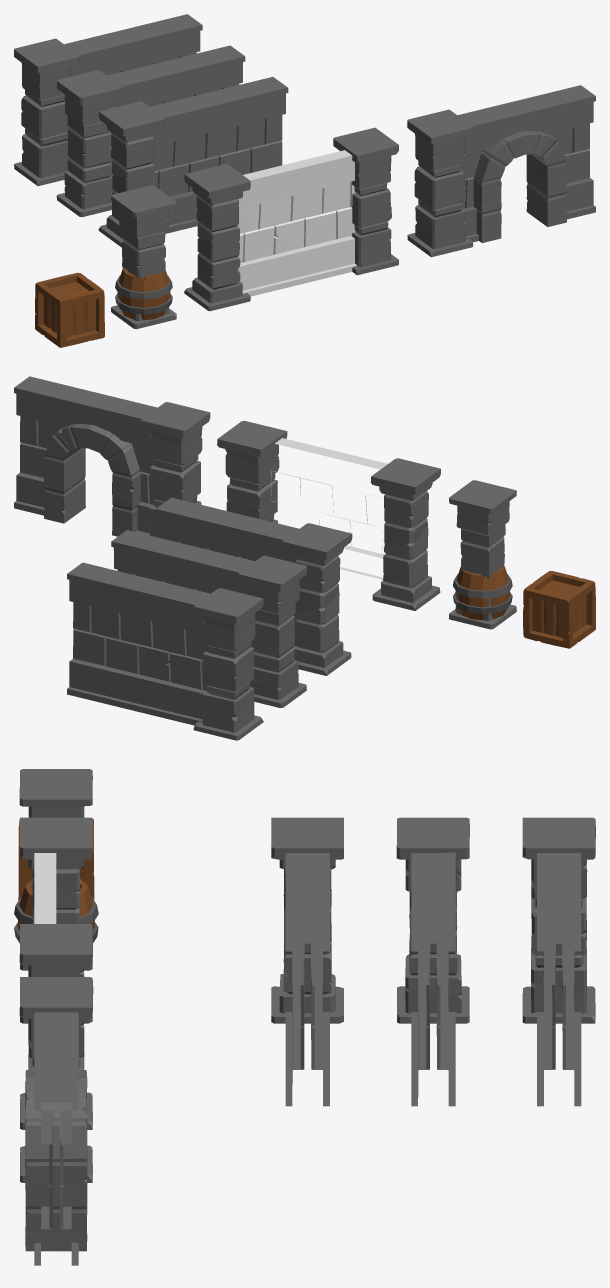
Rendered from dungeon.glb.
3 renders of one model, top to bottom at view 1: azimuth 30°, elevation 25°; view 2: azimuth 150°, elevation 25°; view 3: azimuth 270°, elevation 25°, orthographic. The views are drawn at different scales.
Parts seen in each view (by area): view 1: Door, Cube.001, Wall.001, Cube.002, Cube.006, Cube.003, Cube.005, Cube.004, Crate, Barrel; view 2: Cube.006, Door, Cube.001, Cube.002, Cube.003, Cube.004, Cube.005, Crate, Barrel, Wall.001; view 3: Door, Cube.006, Cube.002, Cube.001, Cube.003, Cube.005, Cube.004, Wall.001, Barrel, Crate.
Part boxes in pixels (bbox=[...]): Door: bbox=[407, 85, 595, 257]; Cube.001: bbox=[98, 77, 288, 247]; Wall.001: bbox=[237, 150, 357, 296]; Cube.002: bbox=[56, 45, 245, 217]; Cube.006: bbox=[14, 14, 202, 186]; Cube.003: bbox=[184, 164, 250, 311]; Cube.005: bbox=[333, 127, 398, 275]; Cube.004: bbox=[111, 185, 176, 329]; Crate: bbox=[35, 272, 104, 347]; Barrel: bbox=[115, 267, 172, 320]; Cube.006: bbox=[67, 562, 263, 740]; Door: bbox=[14, 376, 210, 538]; Cube.001: bbox=[155, 497, 352, 675]; Cube.002: bbox=[111, 530, 306, 707]; Cube.003: bbox=[370, 458, 440, 610]; Cube.004: bbox=[449, 480, 516, 629]; Cube.005: bbox=[217, 420, 287, 523]; Crate: bbox=[523, 571, 595, 648]; Barrel: bbox=[453, 565, 512, 620]; Wall.001: bbox=[271, 438, 387, 579]; Door: bbox=[19, 977, 93, 1265]; Cube.006: bbox=[522, 817, 595, 1106]; Cube.002: bbox=[396, 817, 469, 1106]; Cube.001: bbox=[271, 817, 343, 1106]; Cube.003: bbox=[20, 817, 92, 1023]; Cube.005: bbox=[19, 924, 93, 1129]; Cube.004: bbox=[19, 769, 92, 970]; Wall.001: bbox=[34, 853, 56, 923]; Barrel: bbox=[14, 879, 98, 943]; Crate: bbox=[18, 819, 94, 900].
Bounding box in the file's own units: 14.6 × 3.09 × 9.26.
